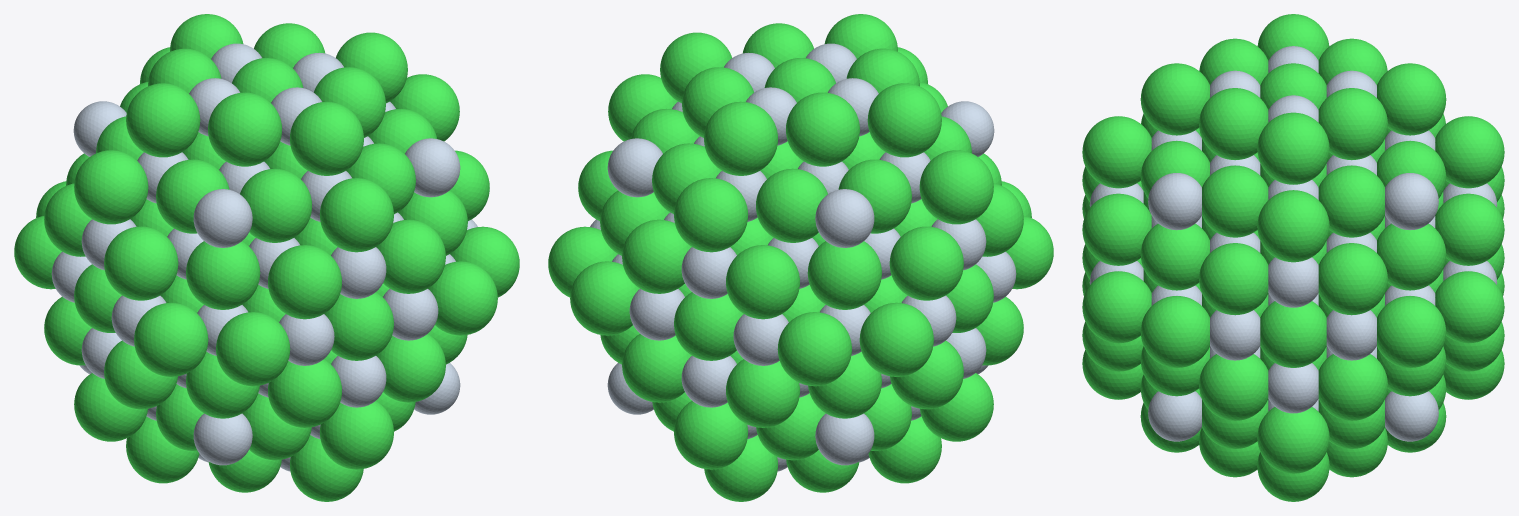
The model's file is silver_chloride.glb.
3 renders of one model, left to right at view 1: azimuth 30°, elevation 25°; view 2: azimuth 150°, elevation 25°; view 3: azimuth 270°, elevation 25°, orthographic. The views are drawn at different scales.
Visible parts, largest first — view 1: Cl_11, Cl_12, Cl_41, Cl_78, Cl_8, Cl_30, Cl_118, Cl_123, Cl_70, Cl_35, Cl_75, Cl_90 (+62 smaller); view 2: Cl_9, Cl_12, Cl_41, Cl_76, Cl_4, Cl_24, Cl_112, Cl_119, Cl_64, Cl_31, Cl_71, Cl_84 (+62 smaller); view 3: Cl_189, Cl_202, Cl_199, Cl_201, Cl_194, Cl_198, Cl_172, Cl_178, Cl_112, Cl_118, Cl_158, Cl_160 (+56 smaller).
Part boxes in pixels (x1,y1,x2,y2): Cl_11: [104, 226, 178, 300]; Cl_12: [74, 150, 148, 224]; Cl_41: [126, 83, 200, 157]; Cl_78: [208, 92, 281, 166]; Cl_8: [134, 302, 208, 376]; Cl_30: [216, 312, 290, 386]; Cl_118: [319, 178, 393, 252]; Cl_123: [290, 101, 363, 175]; Cl_70: [268, 245, 341, 319]; Cl_35: [186, 241, 260, 309]; Cl_75: [240, 168, 311, 242]; Cl_90: [319, 401, 393, 469]; Cl_9: [889, 226, 963, 300]; Cl_12: [919, 150, 993, 224]; Cl_41: [867, 83, 941, 157]; Cl_76: [786, 92, 859, 166]; Cl_4: [859, 302, 933, 376]; Cl_24: [777, 312, 851, 386]; Cl_112: [674, 178, 748, 252]; Cl_119: [704, 101, 777, 175]; Cl_64: [726, 245, 799, 319]; Cl_31: [807, 241, 881, 309]; Cl_71: [756, 168, 827, 242]; Cl_84: [674, 401, 748, 469]; Cl_189: [1257, 112, 1329, 184]; Cl_202: [1257, 190, 1329, 262]; Cl_199: [1318, 243, 1387, 315]; Cl_201: [1199, 243, 1268, 315]; Cl_194: [1377, 296, 1446, 367]; Cl_198: [1140, 296, 1209, 367]; Cl_172: [1435, 271, 1504, 343]; Cl_178: [1082, 271, 1151, 343]; Cl_112: [1435, 116, 1504, 188]; Cl_118: [1082, 116, 1151, 188]; Cl_158: [1318, 88, 1387, 160]; Cl_160: [1199, 88, 1268, 160].
Size of the model in its own units: 7.2 by 7.2 by 7.2.
